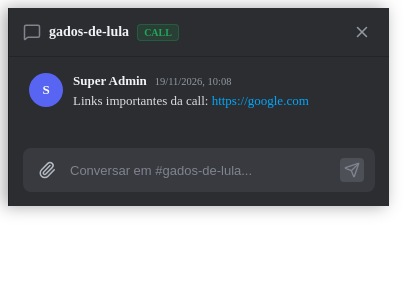
Test case: Voice Channel Text Chat (Bate-Papo de Texto da Call) › renderiza o painel lateral de bate-papo de voz com mensagens existentes e permite envio de mensagem
The image size is (412, 290).
Later steps or results of the test are not shown.
expect the text "Links importantes da call: https://google.com" is shown: met, box [73,93,309,108]
expect the text "19/11/2026, 10:08" is shown: met, box [155,76,231,87]
Note: Digita nova mensagem
Type "Nova anotação da call" into the field with test id "voice-chat-input" at coordinates (200, 170), box [68,149,332,191]
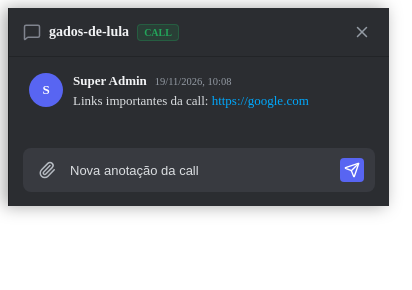
Note: Envia formulário
Click the button with test id "voice-chat-send-btn" at coordinates (352, 170), box [340,158,364,182]
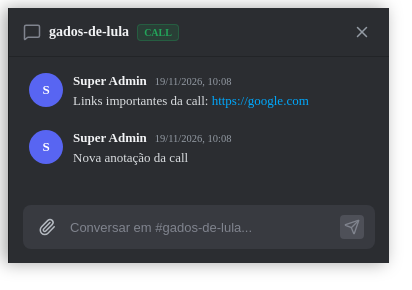
expect the text "Nova anotação da call" is shown: met, box [73,150,188,165]
